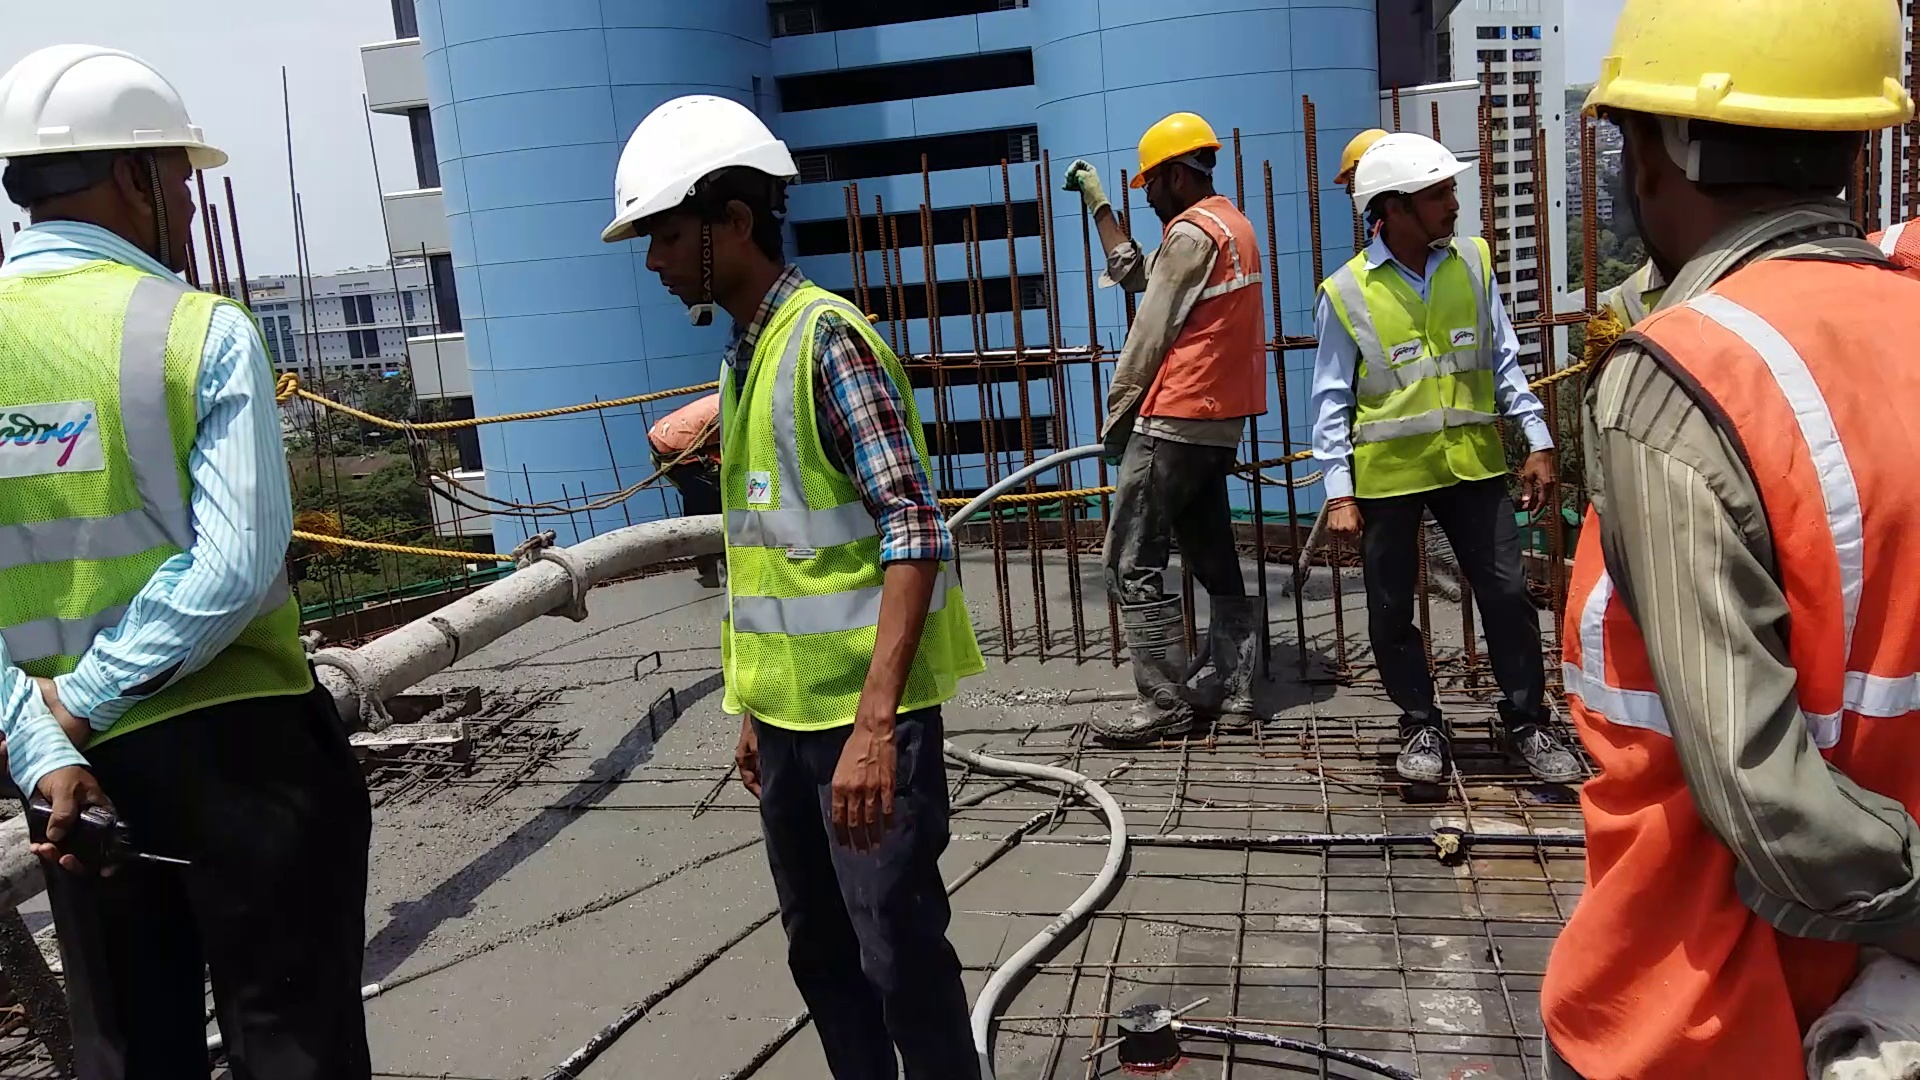SAFE: (1577, 3, 1920, 1021), (603, 94, 926, 731), (8, 36, 266, 749), (1346, 135, 1497, 493), (1126, 105, 1265, 435)
